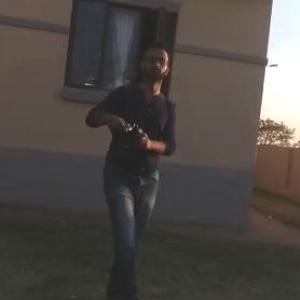follow: (71, 29, 189, 299)
